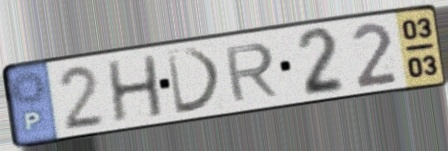2: (294, 24, 348, 101), (346, 19, 401, 91), (55, 63, 107, 133)
D: (163, 45, 225, 118)
H: (104, 52, 167, 125)
R: (221, 40, 282, 105)
